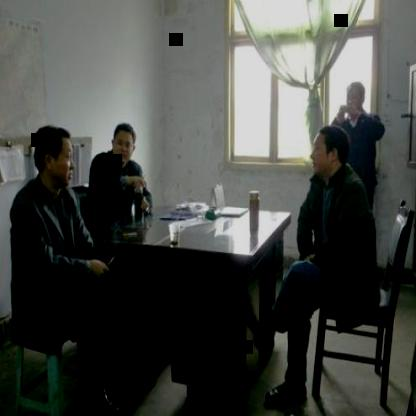head: (31, 122, 74, 190), (310, 122, 348, 180), (110, 120, 138, 162), (344, 80, 368, 117)
